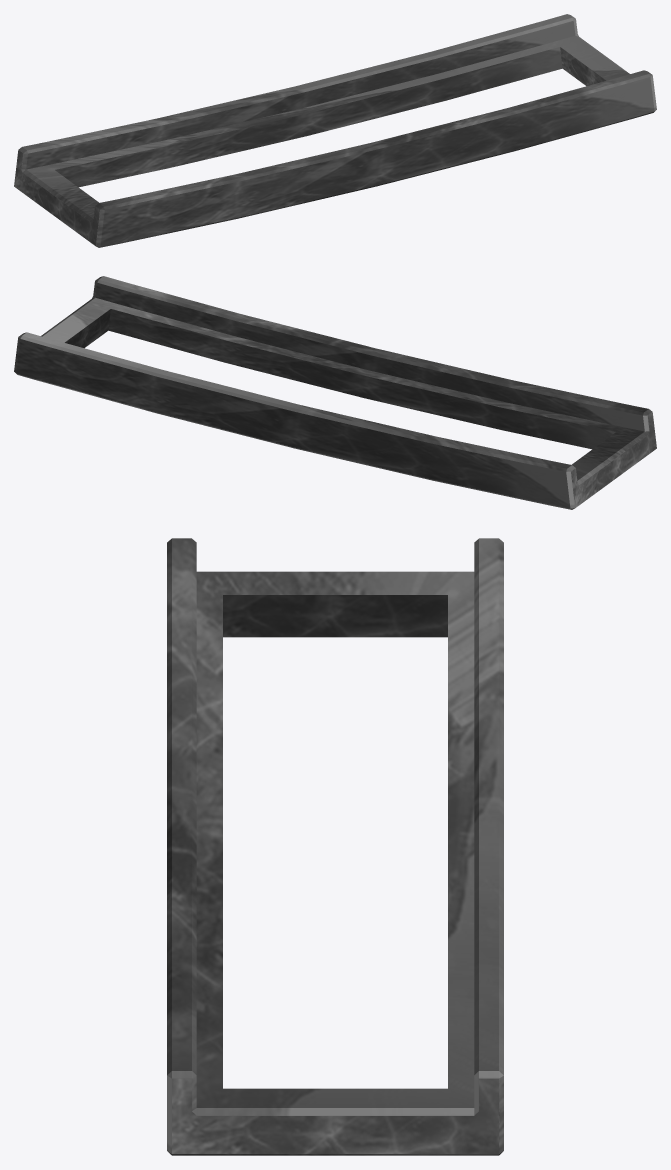
The model's file is HpGauge.fbx.
The picture shows the model from 3 angles, top to bottom: view 1: azimuth 30°, elevation 25°; view 2: azimuth 150°, elevation 25°; view 3: azimuth 270°, elevation 25°; orthographic projection. The views are drawn at different scales.
Visible parts, largest first — view 1: LOD_1_Group_0_Sub_1__HPgaugeBase; view 2: LOD_1_Group_0_Sub_1__HPgaugeBase; view 3: LOD_1_Group_0_Sub_1__HPgaugeBase.
Boxes of the visible parts, x1,y1,x2,y2 form: LOD_1_Group_0_Sub_1__HPgaugeBase: (14,14,656,247); LOD_1_Group_0_Sub_1__HPgaugeBase: (14,276,656,509); LOD_1_Group_0_Sub_1__HPgaugeBase: (167,538,503,1155).
Bounding box in the file's own units: 73.7 × 5.81 × 19.16.
1 material, 1 textured.
